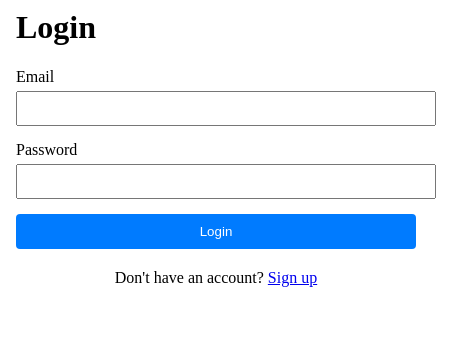
Scenario: LoginPage › should display error on failed login
Expected: the button "Login" is shown, left=16, top=214, right=416, bottom=249
In the field labelled "Email": x=226, y=108 left=16, top=91, right=436, bottom=126, type "test@example.com"
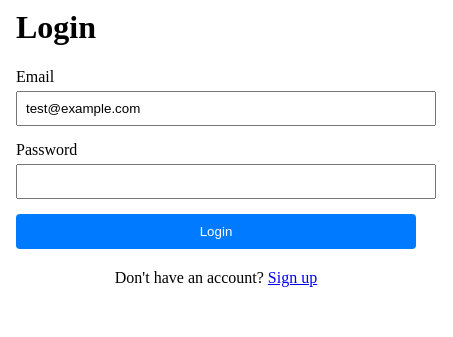
In the password field labelled "Password": x=226, y=181 left=16, top=164, right=436, bottom=199, type "wrongpassword"
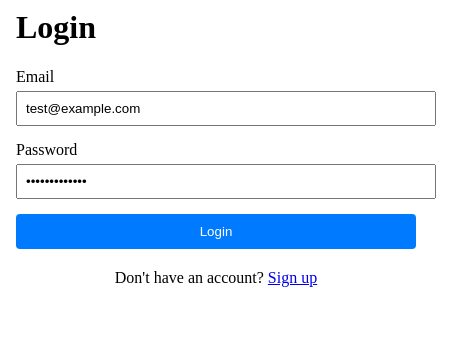
Click the button "Login": x=216, y=231 left=16, top=214, right=416, bottom=249
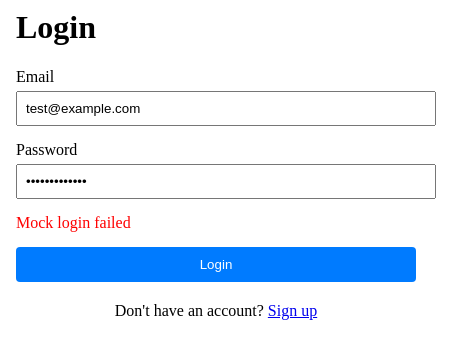
Expected: the text "Mock login failed" is shown, left=16, top=214, right=131, bottom=231
